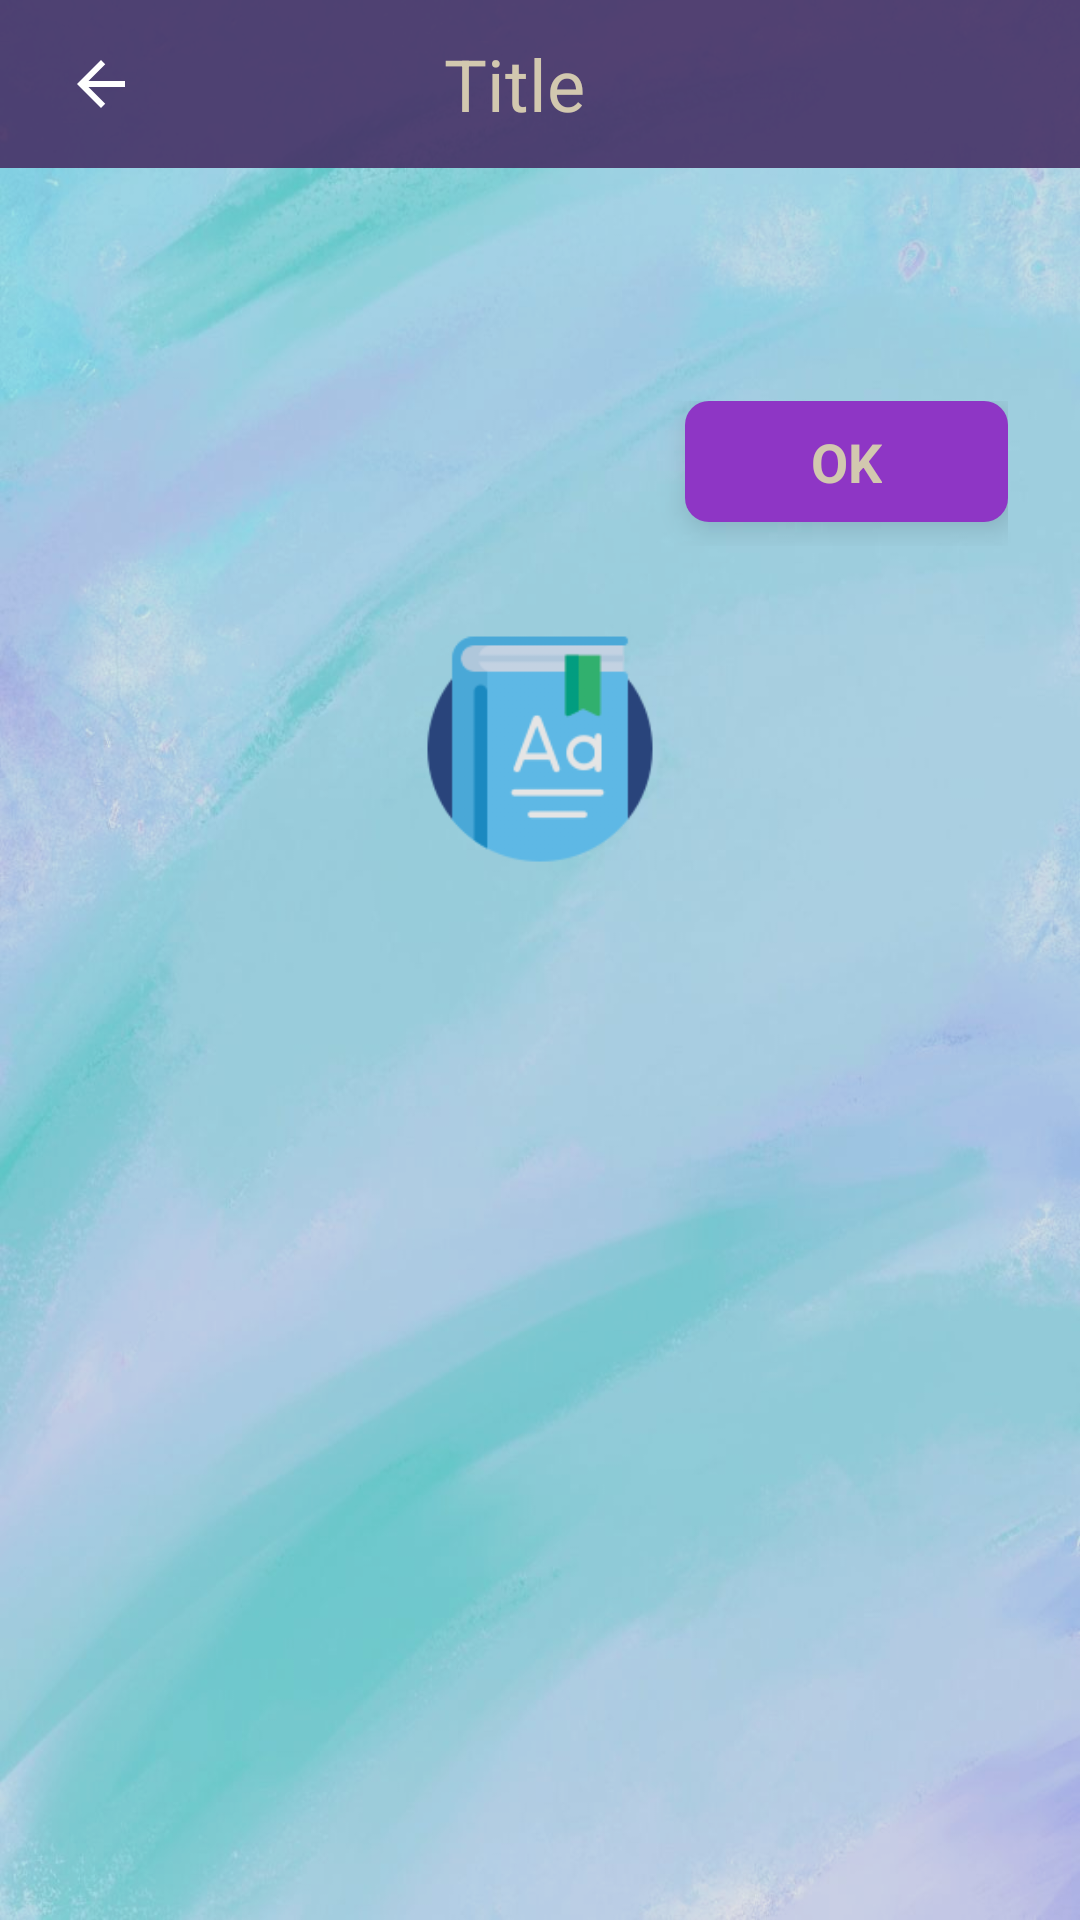

Locate icon controls on the screen. Image size 1080w x 1920h, boxes as (x1, y1, x2, y2).
day night back: (77, 60, 125, 108)
